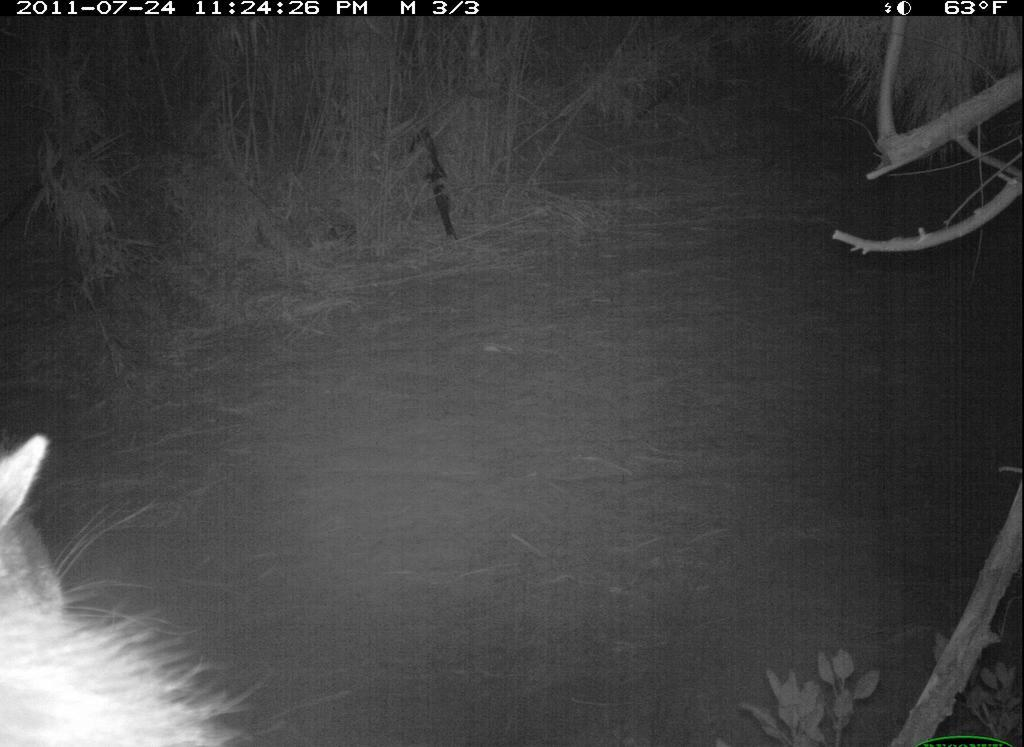raccoon: (11, 409, 280, 747)
